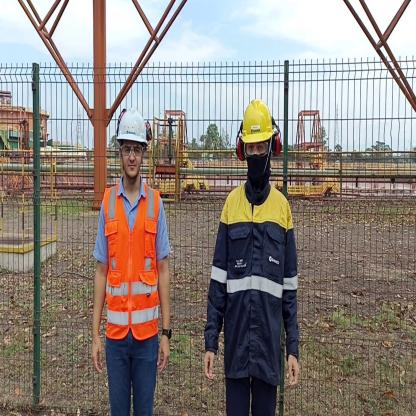C_eletrica: (208, 192, 300, 383)
Capacete: (237, 94, 276, 144), (115, 103, 148, 144)
colete: (106, 184, 158, 338)
